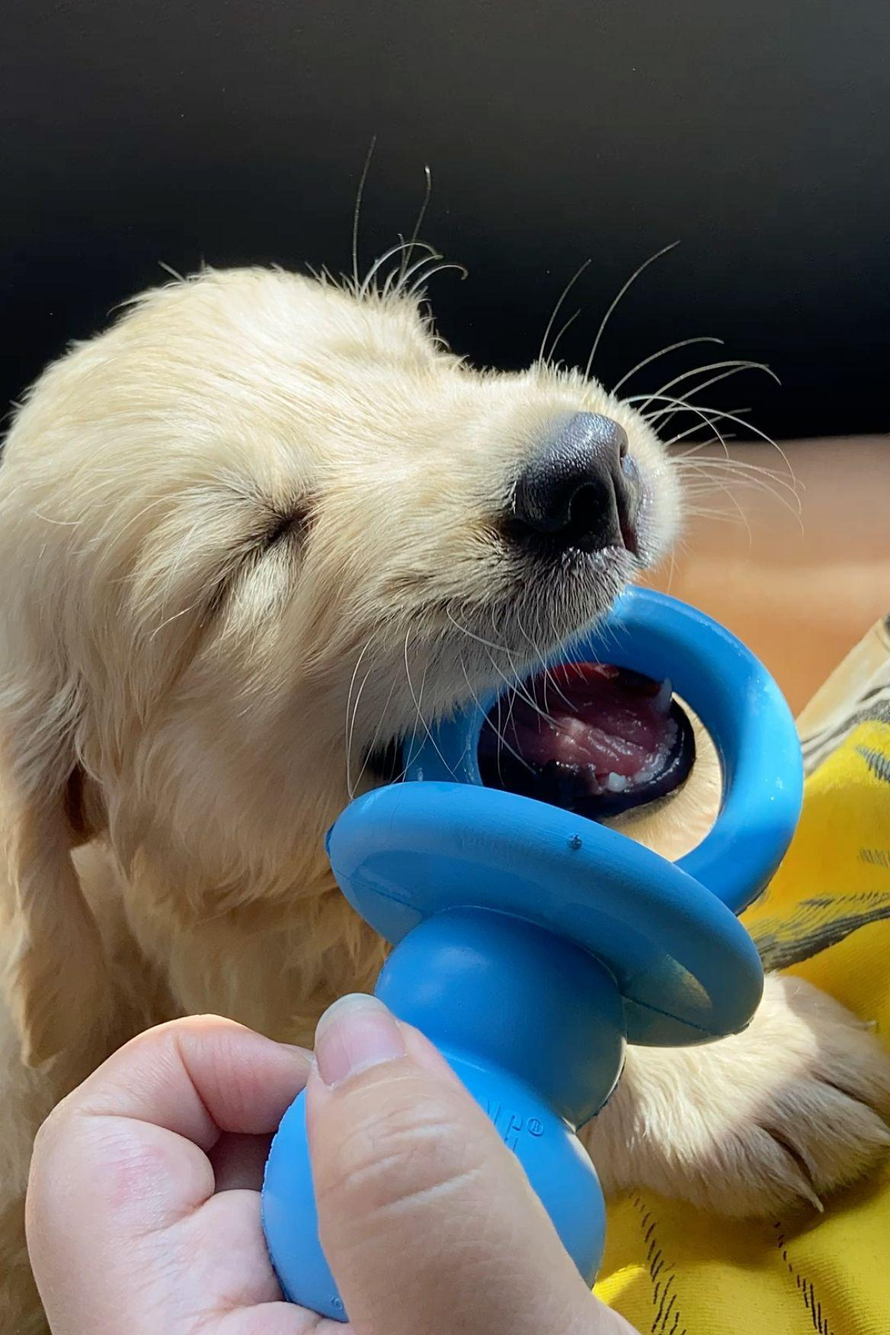puppy-dog: (0, 256, 890, 1322)
